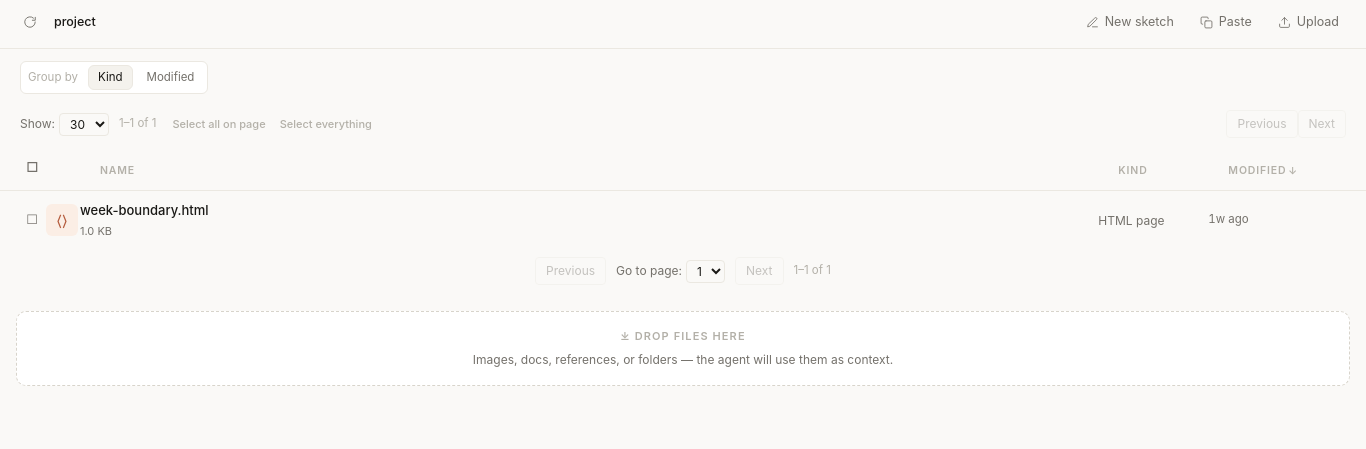
Test: DesignFilesPanel grouping › keeps files at the seven calendar day boundary in the previous 7 days group
Click the button "Modified". click: click(170, 77)
box: [136,65,204,90]
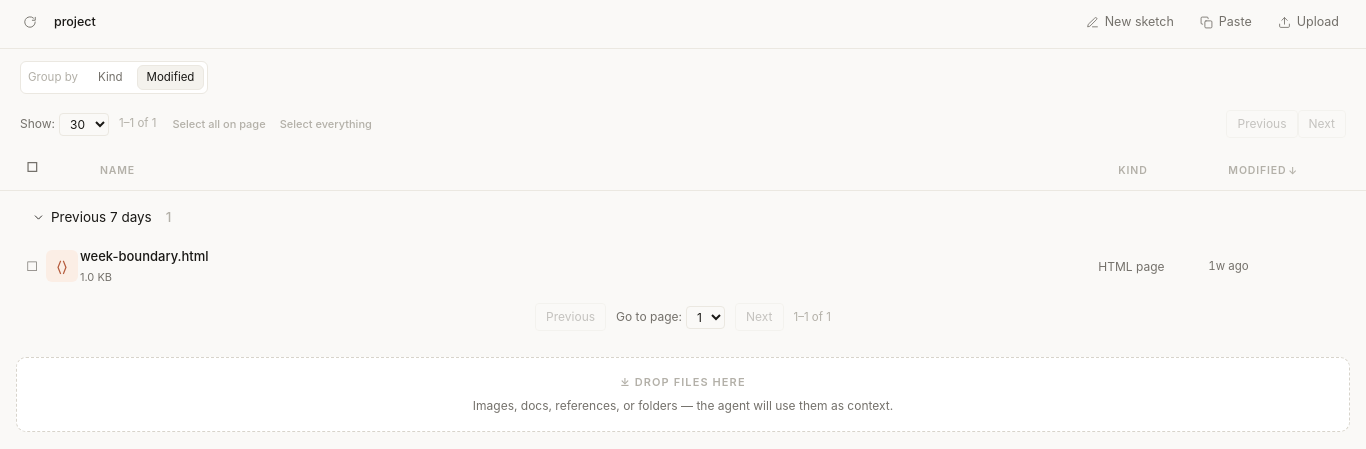
Expected: the row with test id "design-file-row-week-boundary.html" is shown, [0,237,1365,295]
Now the text "Previous 7 days" is shown, box [51,207,152,227]
